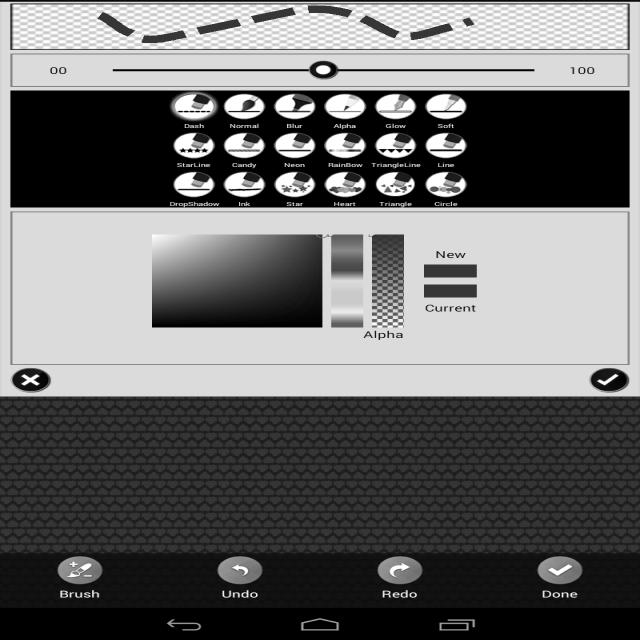ImageButton: (200, 547, 274, 599), (44, 555, 126, 599)
ImageView: (11, 214, 630, 360), (9, 87, 622, 207), (13, 5, 636, 51)
RadioButton: (352, 546, 439, 603), (520, 544, 586, 598)
